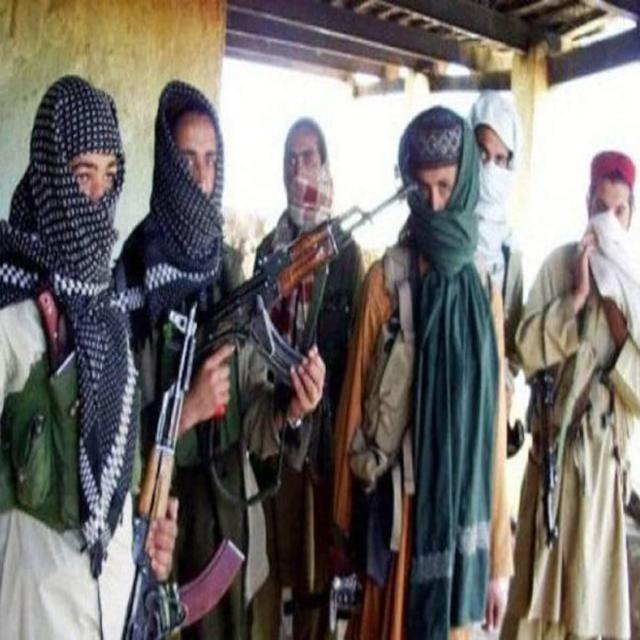Militant: (0, 76, 135, 640), (136, 68, 264, 640), (379, 98, 512, 640), (262, 106, 379, 640), (449, 85, 550, 640), (531, 137, 640, 639)
